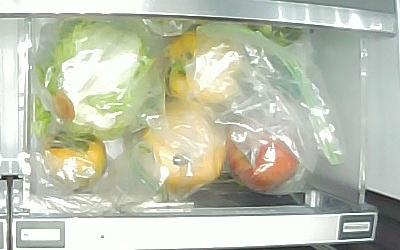apple_vinyl: (224, 123, 299, 192)
grapefruit_vinyl: (134, 101, 224, 196)
lettuce_vinyl: (35, 19, 161, 139)
paprika_vinyl: (163, 30, 245, 102)
persimmon_vinyl: (42, 131, 109, 188)
